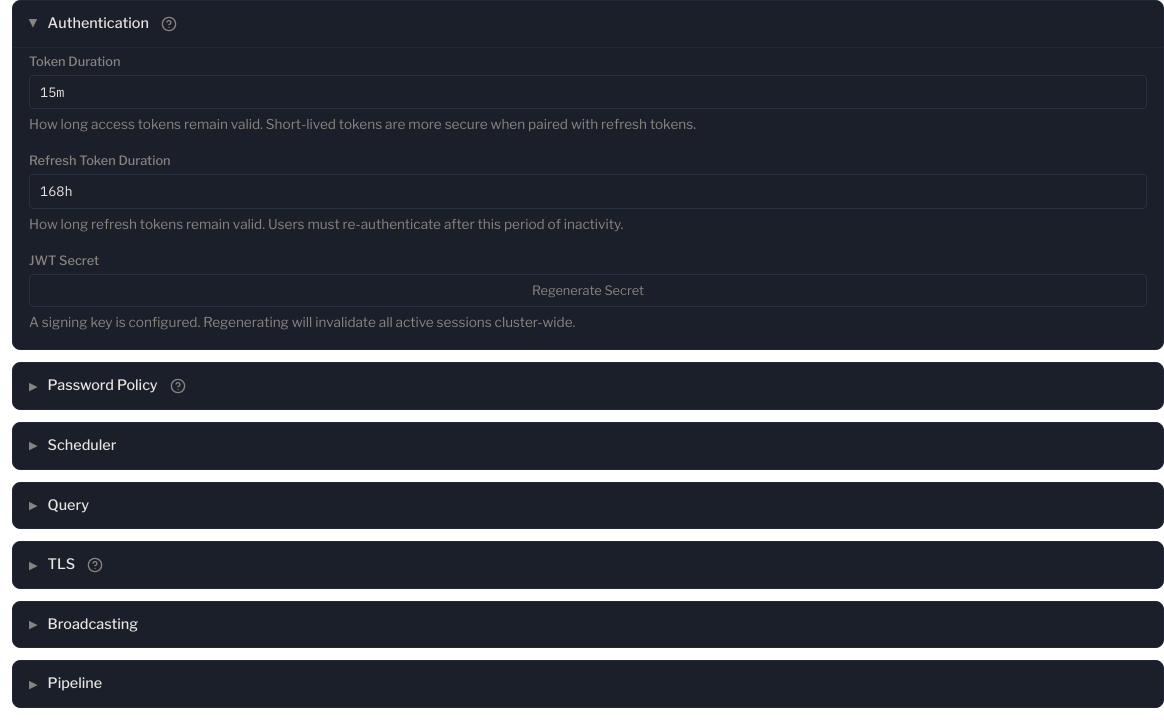
Test: ServiceSettings › query section shows timeout and limits
The width and height of the screenshot is (1164, 720).
Click the text "Query".
click(68, 505)  # box [48,495,89,516]
(page scrolled)
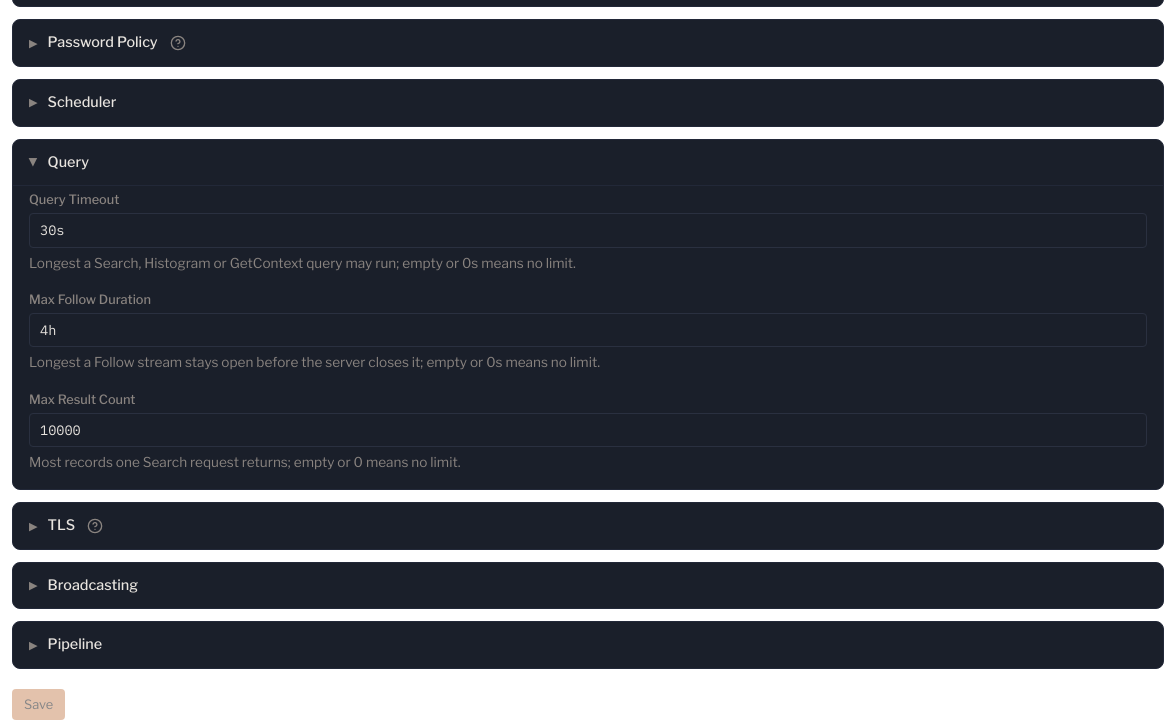
Now the text "Query Timeout" is shown, box [29,190,119,209]
Now the text "Max Follow Duration" is shown, box [29,290,151,309]
Now the text "Max Result Count" is shown, box [29,390,136,409]
